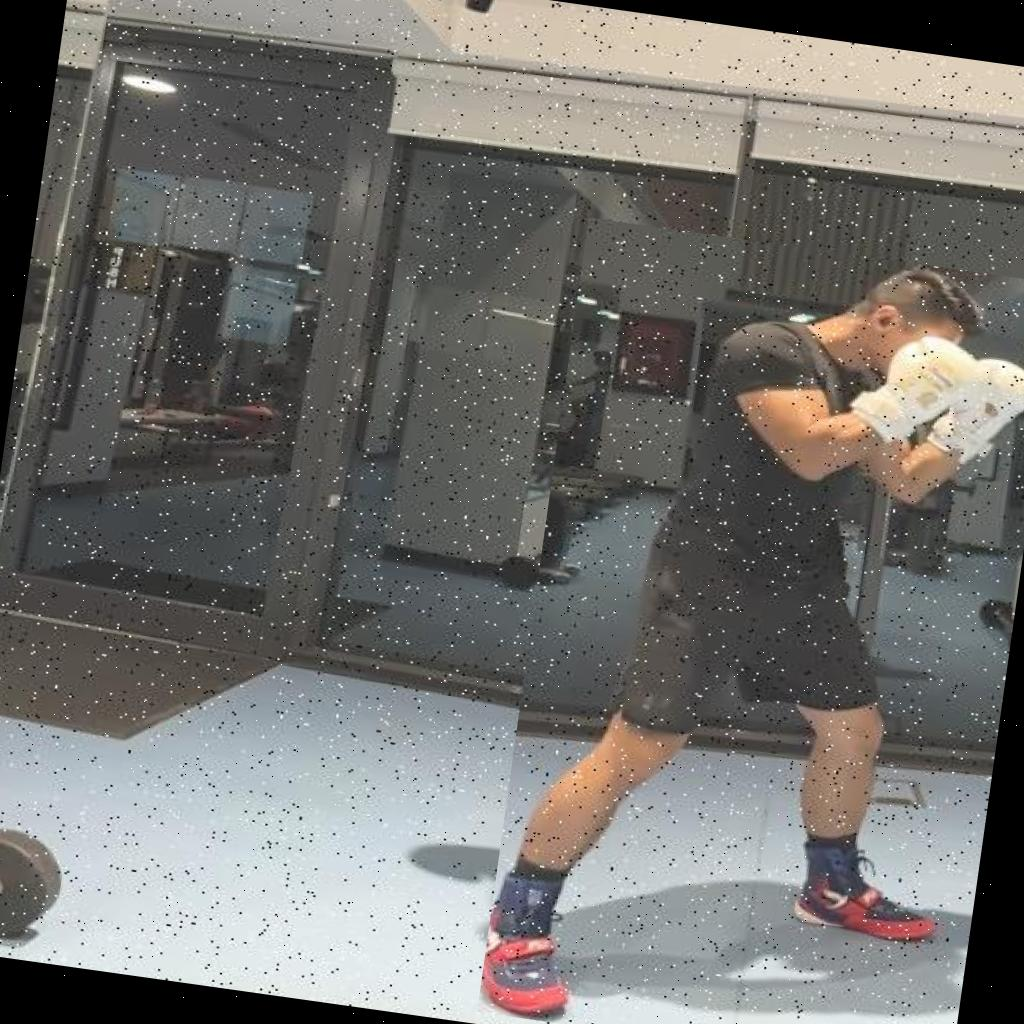no punch: (477, 217, 1024, 1024)
